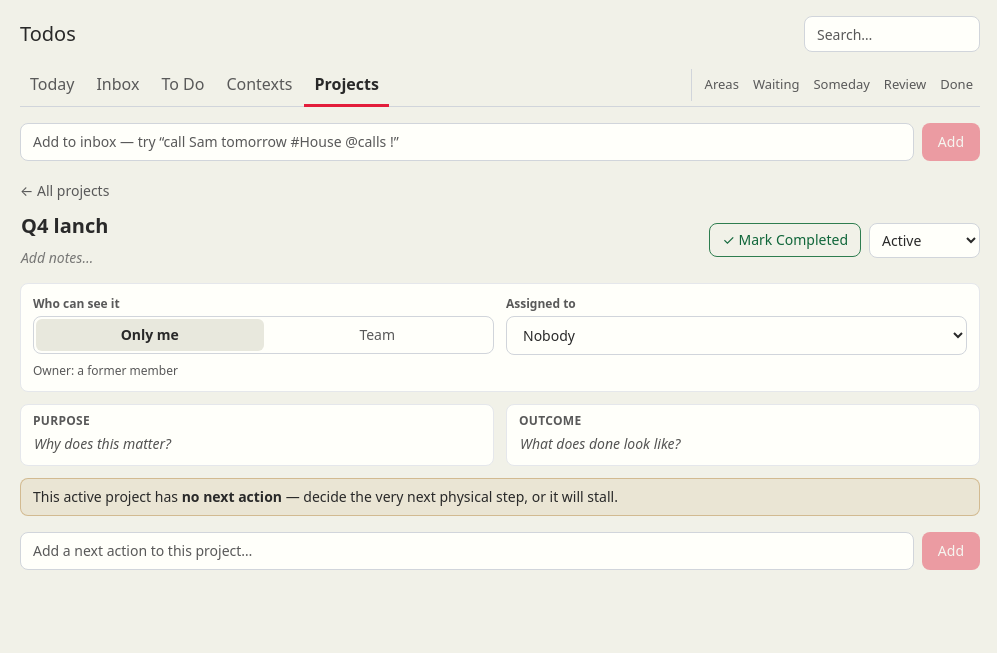
Scenario: ProjectDetailPage — inline notes edit (todo-gtd #3198) › sends nothing when an empty notes field is opened and left alone
Click the button titled "Click to edit" at (57, 258), box [16,245,98,271]
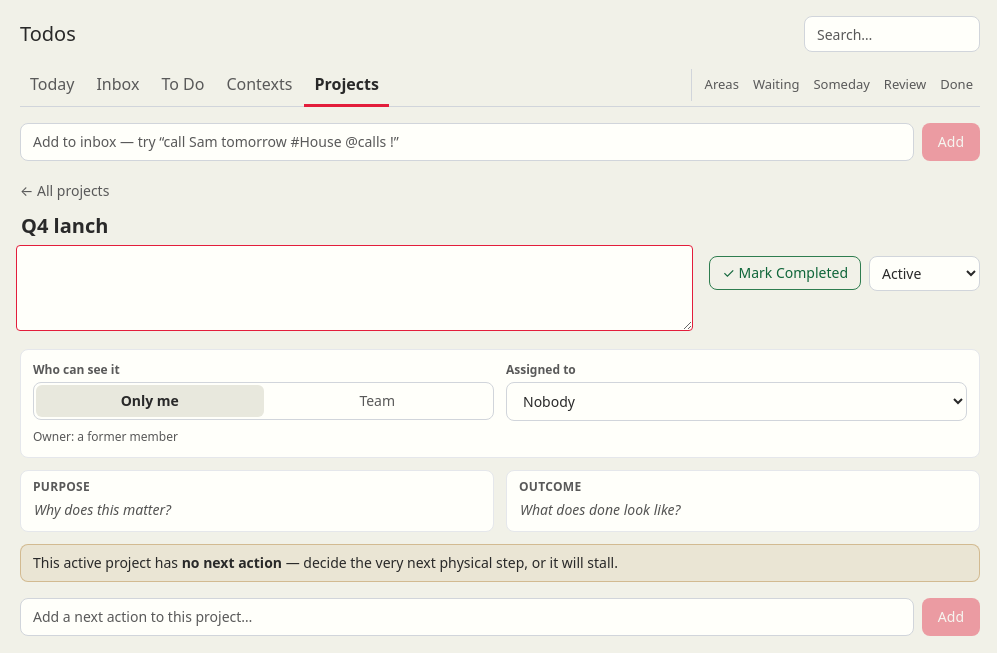
Leave the text box named "Project notes", box [16,245,693,331]
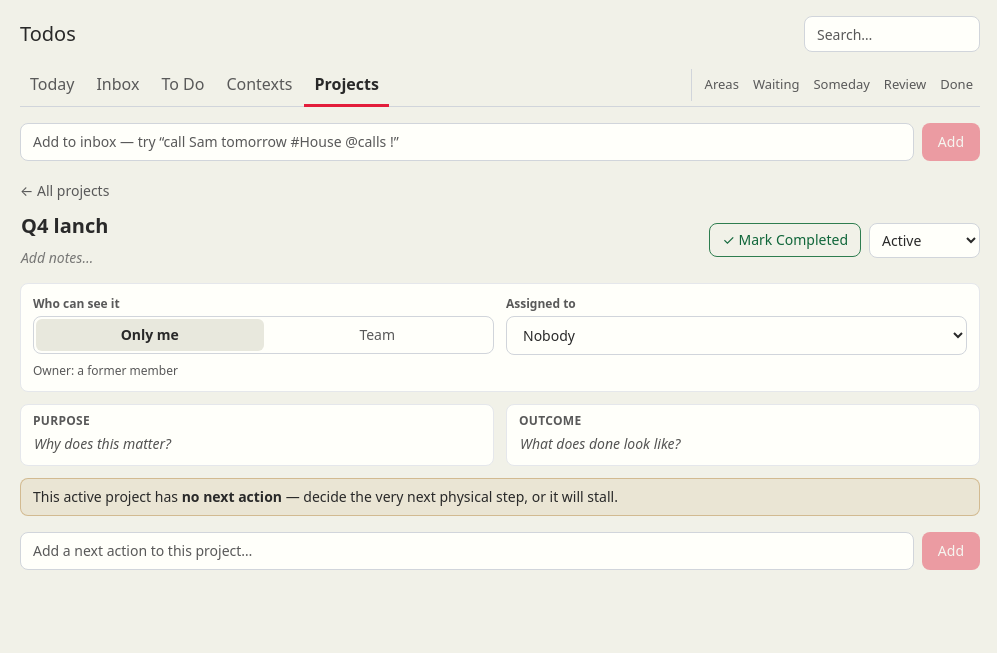
Expected: the button titled "Click to edit" reads "Add notes…", [16,245,98,271]
